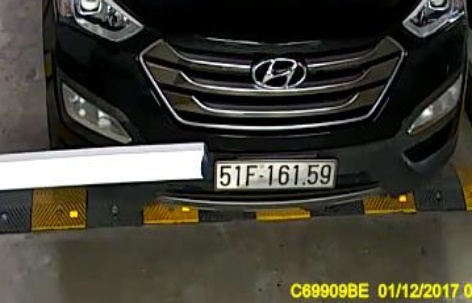plate: (209, 157, 337, 192)
